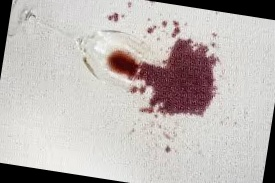wine: (103, 41, 220, 122), (168, 39, 215, 67), (166, 16, 187, 44), (140, 17, 161, 40), (103, 9, 122, 24), (163, 143, 179, 158), (157, 126, 172, 141), (125, 2, 134, 11)
